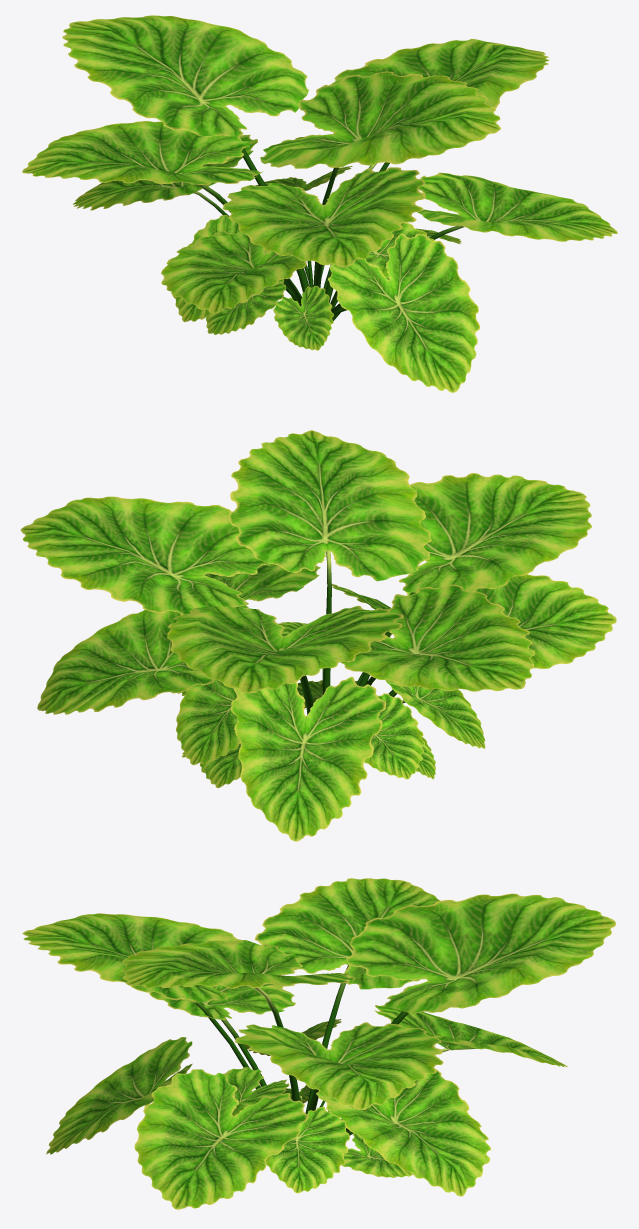
File: elephant_ear_bush.glb
3 renders of one model, top to bottom at view 1: azimuth 30°, elevation 25°; view 2: azimuth 150°, elevation 25°; view 3: azimuth 270°, elevation 25°, orthographic. The views are drawn at different scales.
Visible parts, largest first — view 1: Object_2; view 2: Object_2; view 3: Object_2.
Part boxes in pixels (left/top/right/bottom): Object_2: left=22, top=15, right=617, bottom=392; Object_2: left=20, top=430, right=616, bottom=841; Object_2: left=22, top=878, right=615, bottom=1209.
Bounding box in the file's own units: 6.14 × 2.8 × 6.33.
Materials: 1 (1 with a texture image).
